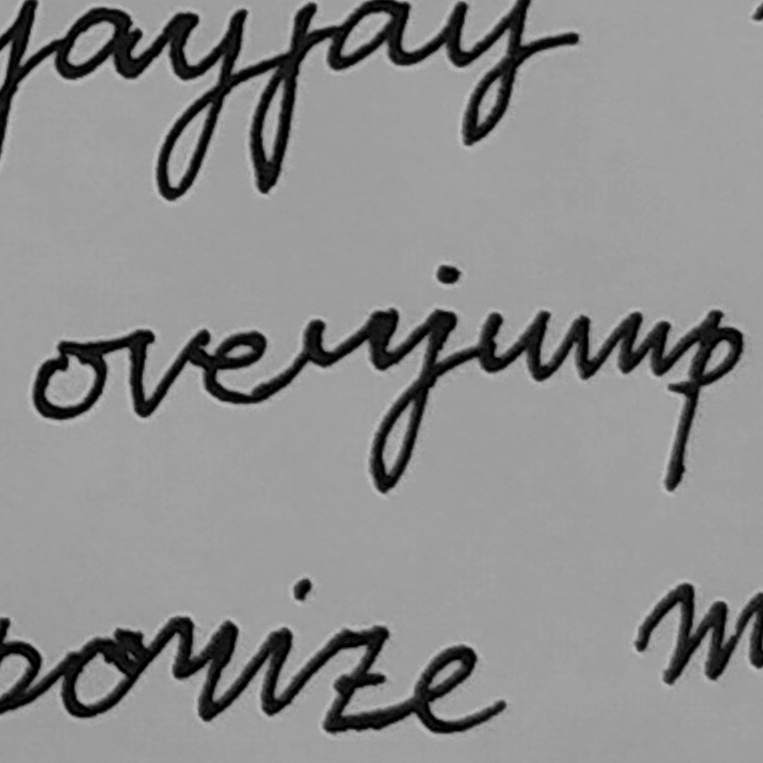e: (201, 327, 273, 409)
j: (362, 261, 464, 496)
m: (563, 305, 676, 386)
o: (28, 333, 115, 425)
p: (657, 304, 746, 499)
r: (296, 301, 404, 386)
u: (472, 303, 555, 385)
v: (120, 324, 211, 420)
